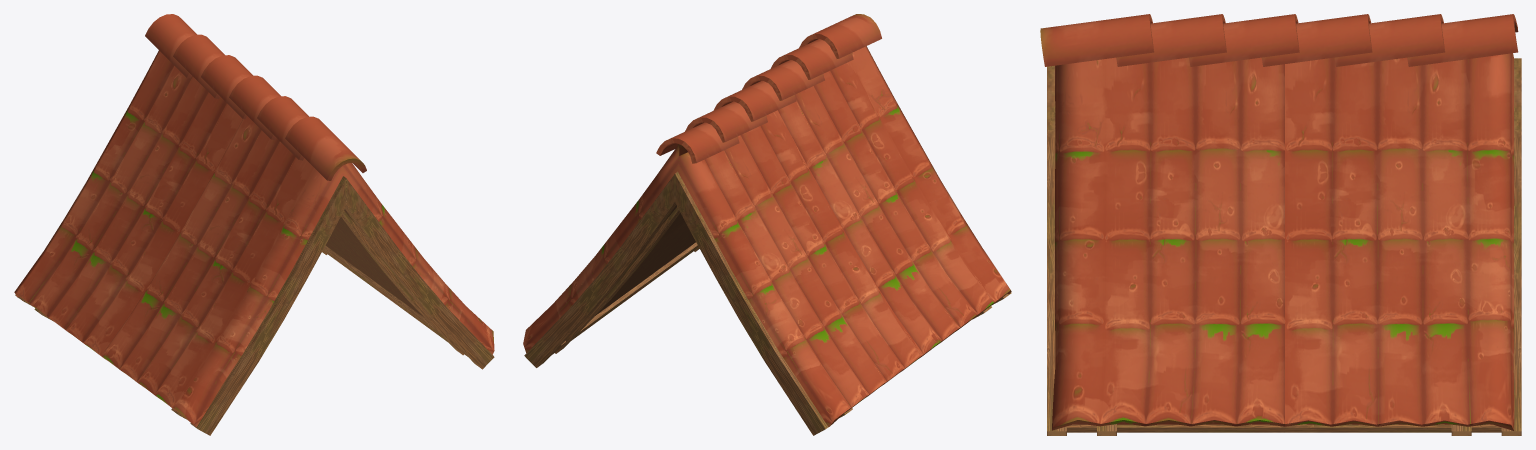
File: Roof_RoundTiles_4x4.glb
The picture shows the model from 3 angles, left to right: view 1: azimuth 30°, elevation 25°; view 2: azimuth 150°, elevation 25°; view 3: azimuth 270°, elevation 25°; orthographic projection. The views are drawn at different scales.
Parts seen in each view (by area): view 1: Roof_RoundTiles_4x4; view 2: Roof_RoundTiles_4x4; view 3: Roof_RoundTiles_4x4.
Part boxes in pixels (box(x1,y1,x2,y2)): Roof_RoundTiles_4x4: box(14, 14, 494, 435); Roof_RoundTiles_4x4: box(523, 14, 1011, 435); Roof_RoundTiles_4x4: box(1040, 14, 1521, 435).
Bounding box in the file's own units: 5.51 × 4.25 × 5.56.
Materials: 2 (2 with a texture image).
